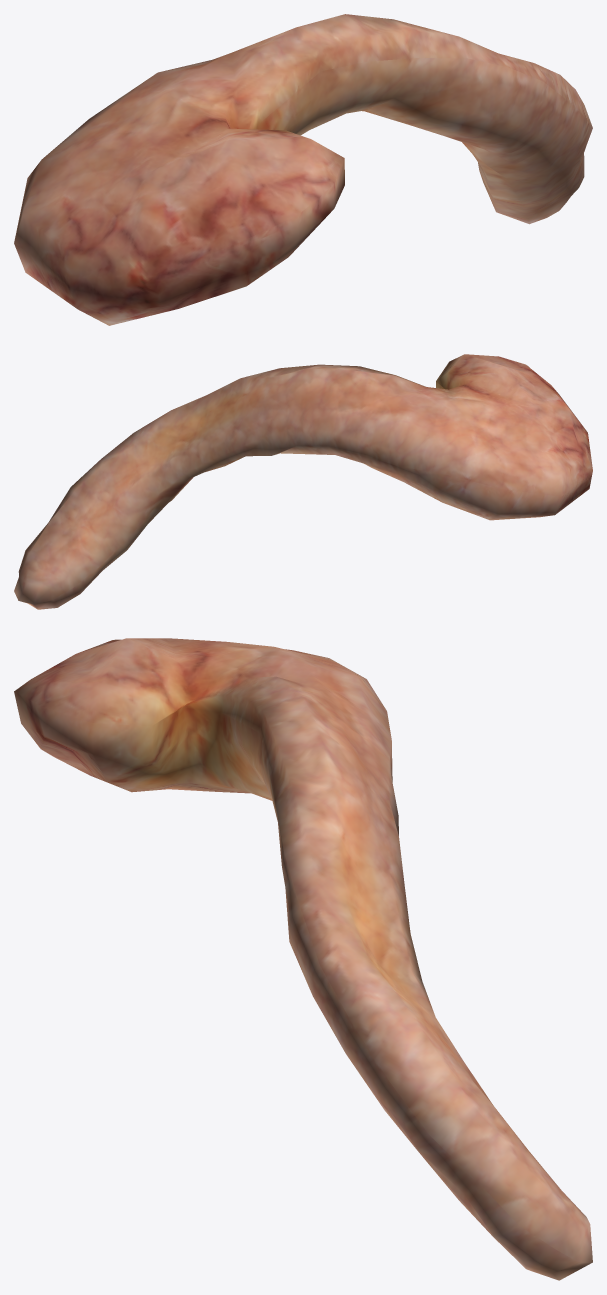
The model's file is asset7.glb.
The picture shows the model from 3 angles, top to bottom: view 1: azimuth 30°, elevation 25°; view 2: azimuth 150°, elevation 25°; view 3: azimuth 270°, elevation 25°; orthographic projection. The views are drawn at different scales.
Visible parts, largest first — view 1: Pancreas_pivot; view 2: Pancreas_pivot; view 3: Pancreas_pivot.
Part boxes in pixels (x1,y1,x2,y2): Pancreas_pivot: [14, 14, 592, 325]; Pancreas_pivot: [14, 354, 592, 609]; Pancreas_pivot: [14, 638, 592, 1280].
Bounding box in the file's own units: 0.163 × 0.0815 × 0.1096.
Materials: 1 (1 with a texture image).
